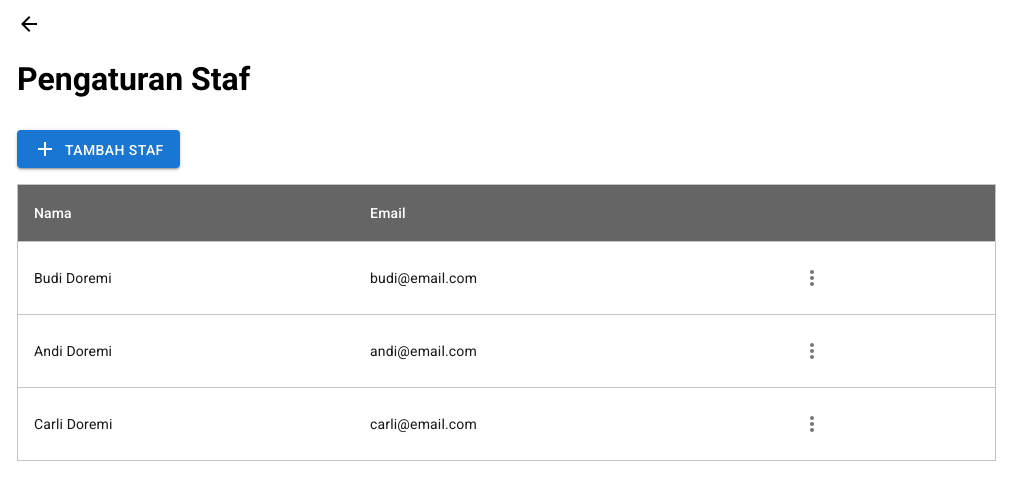
Pengaturan Pengguna Main (exist) › should show dropdown when kebab menu icon is pressed
The image size is (1013, 478).
Click the button with test id "modify-dropdown-menu" in the row of "Budi Doremi". click: click(812, 278)
box: [792, 258, 832, 298]
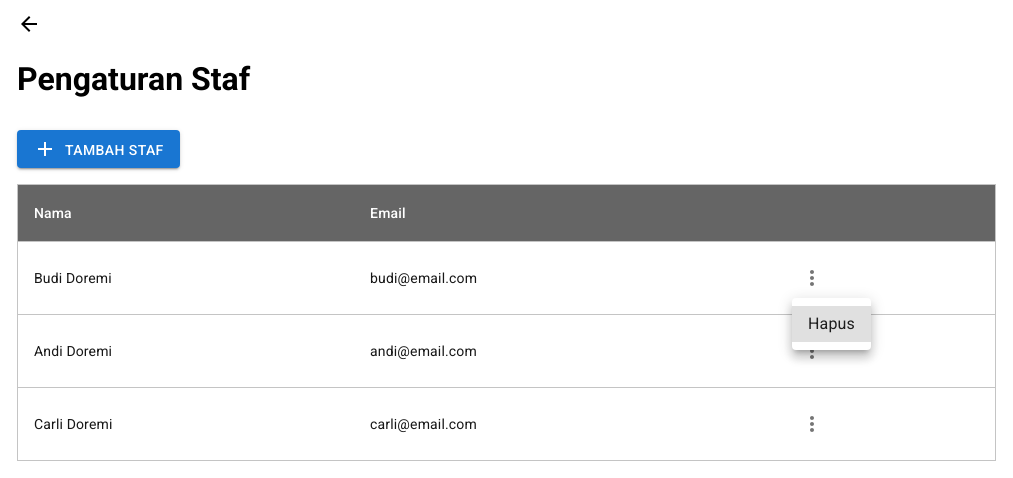
Expected: the menu item "Hapus" is shown, [792, 306, 871, 342]
